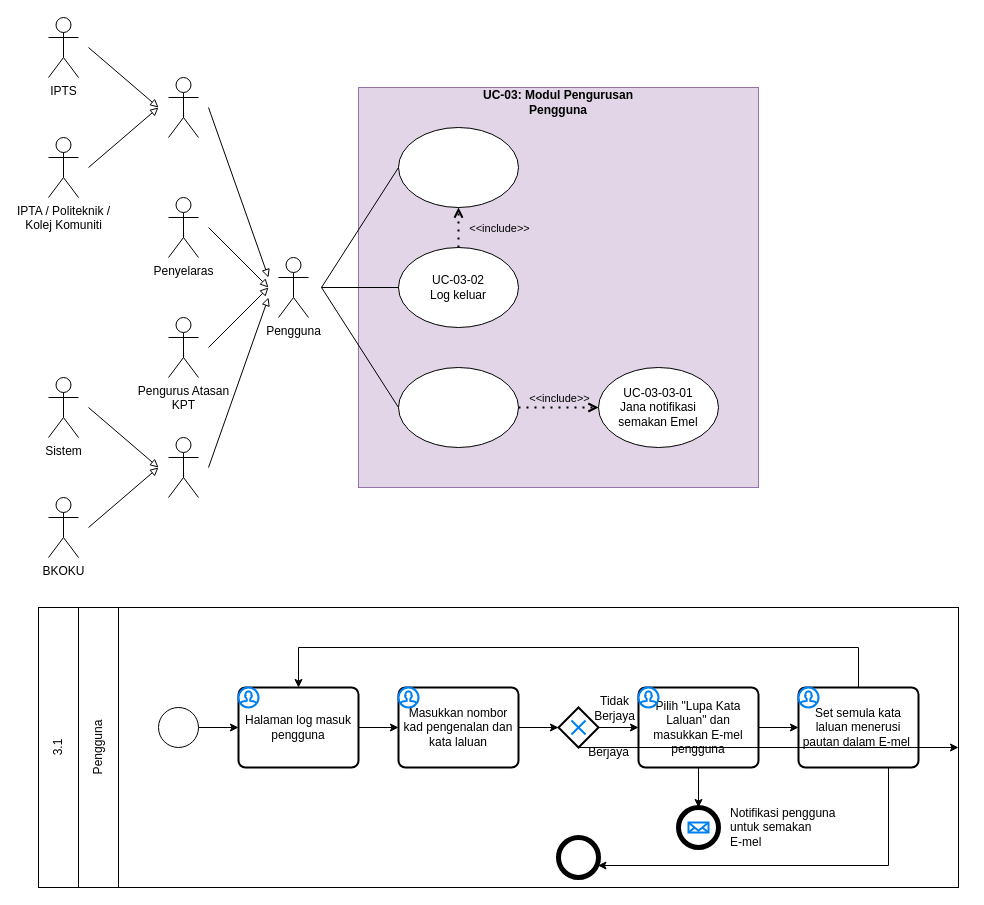
This 984x905 diagram has some shape labels left out. Each missing label, with the centre of its shape:
"Admin" belongs at (x=183, y=467).
"Pelajar" belongs at (x=183, y=107).
"UC-03-01 Log masuk" belongs at (x=458, y=167).
"UC-03-03 Set semula kata laluan" belongs at (x=458, y=407).
